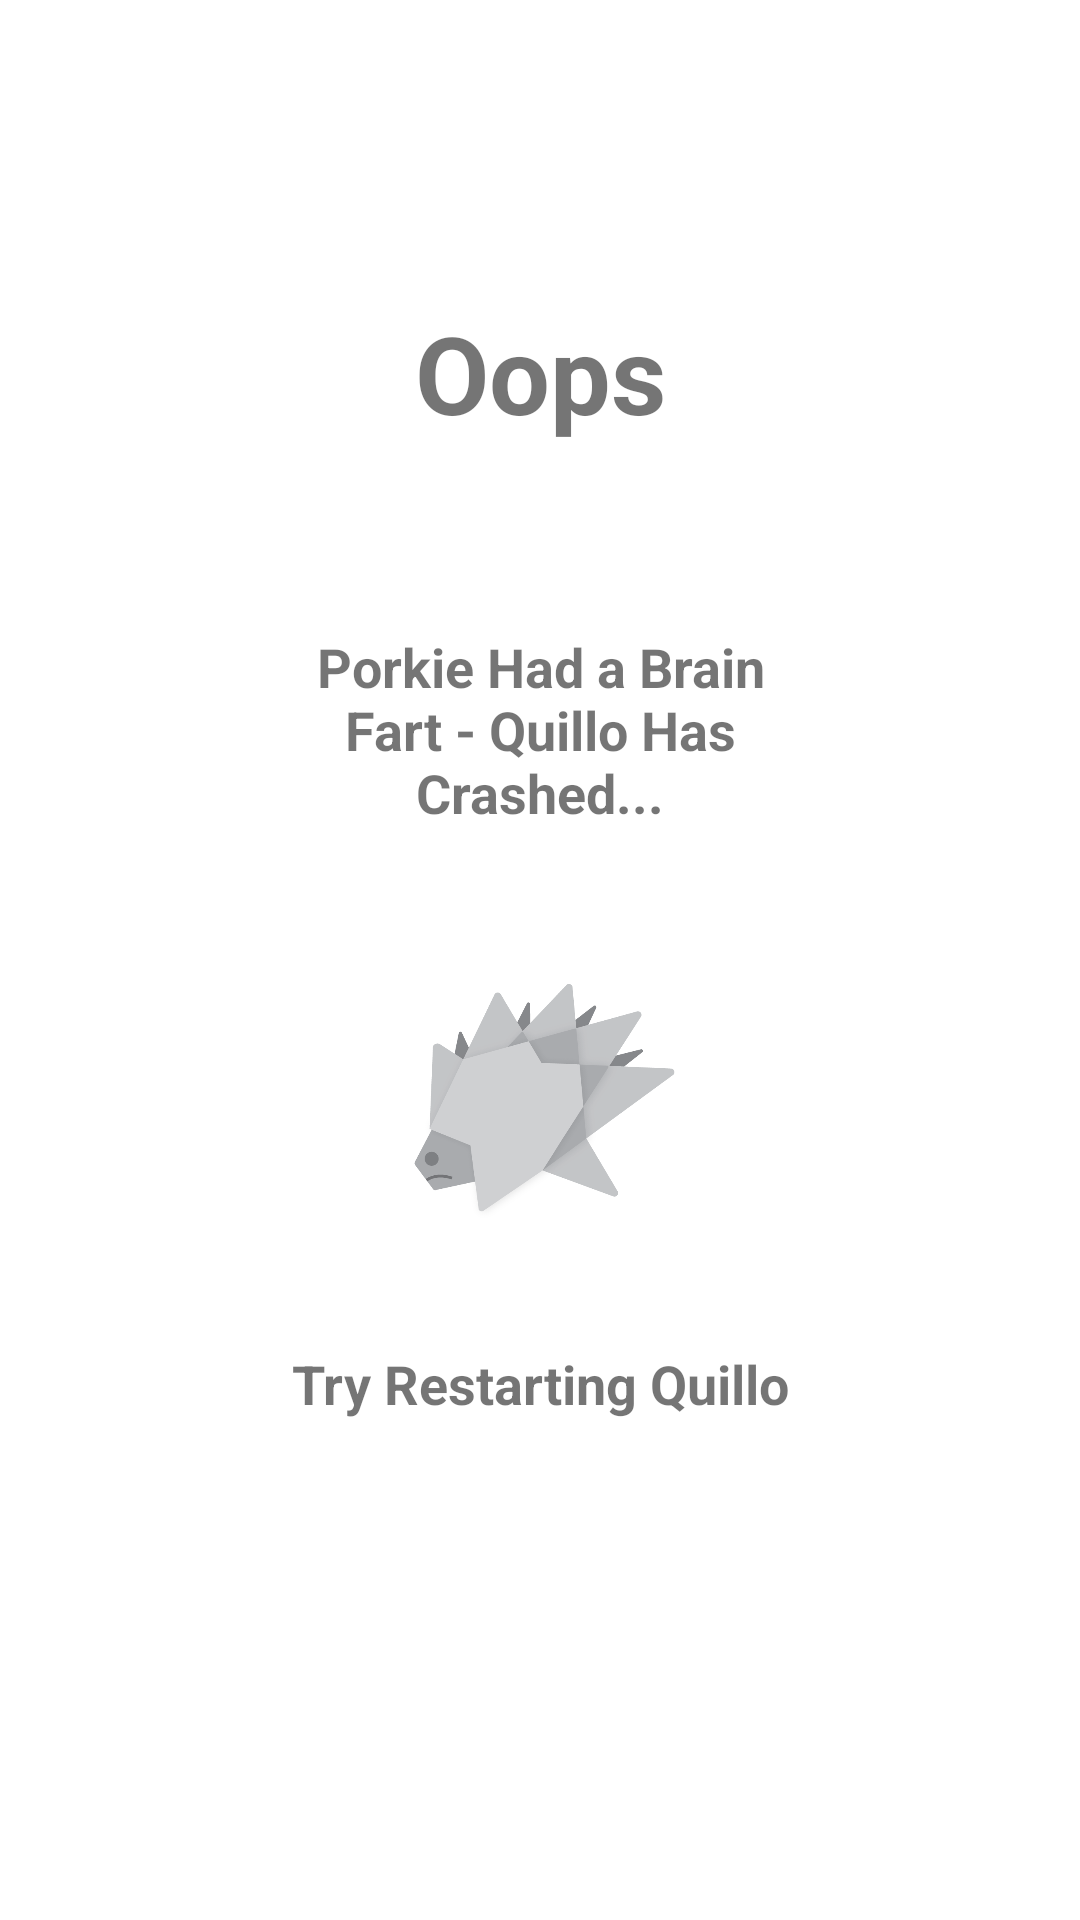

Icon click points for this 1080px x 1920px phone screenshot, format (x,y):
sad porkie: (544,1097)
